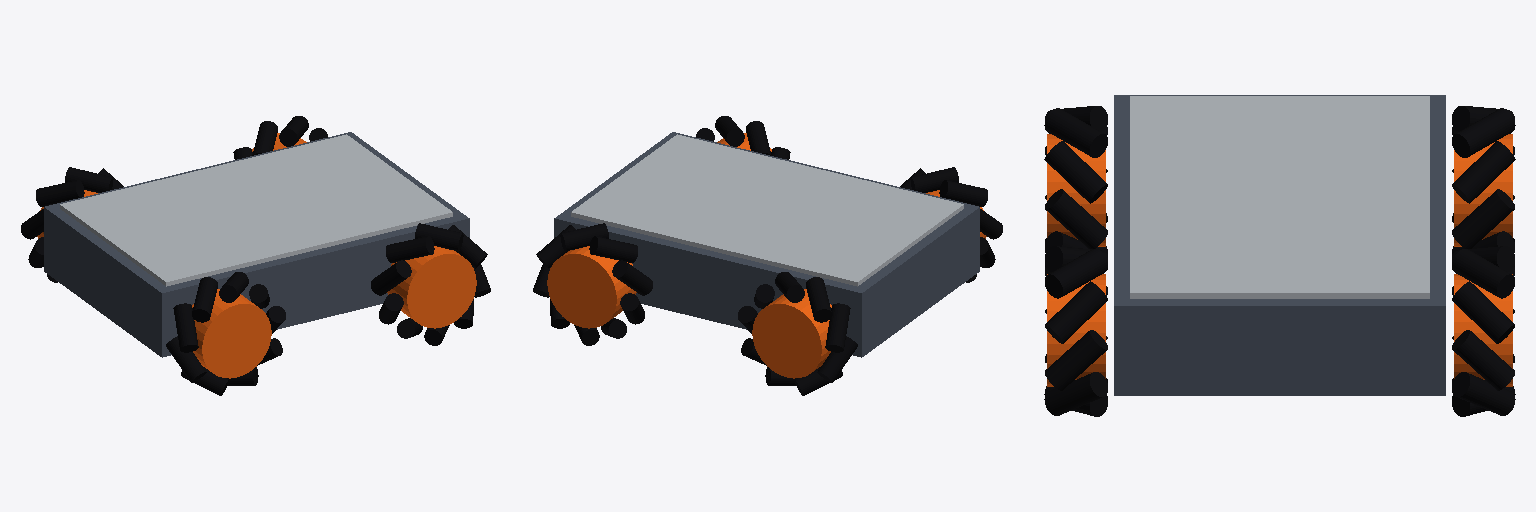
robot.urdf — studio_mecanum:
<?xml version="1.0" ?>
<!-- studio_mecanum: an illustrative four-wheel mecanum base with a 2D LiDAR,
     an IMU and a depth camera, written for Robot Studio's examples. Not
     modelled on any commercial robot; dimensions and masses are plausible
     round numbers, not measurements.

     Arguments (xacro name:=value):
       use_lidar   true | false   mount the LiDAR on the top plate
       use_camera  true | false   mount the depth camera on the front
       wheel_radius               outer radius of the mecanum wheels in metres -->
<robot name="studio_mecanum">
  <material name="chassis_grey">
    <color rgba="0.32 0.35 0.40 1"/>
  </material>
  <material name="plate_silver">
    <color rgba="0.72 0.74 0.76 1"/>
  </material>
  <material name="hub_orange">
    <color rgba="0.92 0.42 0.12 1"/>
  </material>
  <material name="roller_black">
    <color rgba="0.08 0.08 0.09 1"/>
  </material>
  <material name="sensor_dark">
    <color rgba="0.15 0.16 0.18 1"/>
  </material>
  <material name="board_green">
    <color rgba="0.10 0.45 0.25 1"/>
  </material>
  <!-- REP 105: base_footprint on the ground, base_link at the wheel axles. -->
  <link name="base_footprint"/>
  <joint name="base_joint" type="fixed">
    <parent link="base_footprint"/>
    <child link="base_link"/>
    <origin xyz="0 0 0.05"/>
  </joint>
  <link name="base_link">
    <visual name="chassis">
      <origin xyz="0 0 0.009999999999999997"/>
      <geometry>
        <box size="0.3 0.2 0.06"/>
      </geometry>
      <material name="chassis_grey"/>
    </visual>
    <visual name="top_plate">
      <origin xyz="0 0 0.041999999999999996"/>
      <geometry>
        <box size="0.27999999999999997 0.18000000000000002 0.004"/>
      </geometry>
      <material name="plate_silver"/>
    </visual>
    <collision>
      <origin xyz="0 0 0.009999999999999997"/>
      <geometry>
        <box size="0.3 0.2 0.06"/>
      </geometry>
    </collision>
    <inertial>
      <origin xyz="0 0 0.009999999999999997"/>
      <mass value="2.2"/>
      <inertia ixx="0.007993333333333335" ixy="0" ixz="0" iyy="0.01716" iyz="0" izz="0.023833333333333335"/>
    </inertial>
  </link>
  <link name="front_left_wheel_link">
    <visual name="hub">
      <origin rpy="1.5707963267948966 0 0"/>
      <geometry>
        <cylinder length="0.035" radius="0.034"/>
      </geometry>
      <material name="hub_orange"/>
    </visual>
    <visual name="roller_0">
      <origin rpy="0.7853981633974483 -0.0 0" xyz="0.042 0 0.0"/>
      <geometry>
        <cylinder length="0.038397243543875255" radius="0.008"/>
      </geometry>
      <material name="roller_black"/>
    </visual>
    <visual name="roller_1">
      <origin rpy="0.7853981633974483 -0.6981317007977318 0" xyz="0.03217386661099708 0 0.02699707960683465"/>
      <geometry>
        <cylinder length="0.038397243543875255" radius="0.008"/>
      </geometry>
      <material name="roller_black"/>
    </visual>
    <visual name="roller_2">
      <origin rpy="0.7853981633974483 -1.3962634015954636 0" xyz="0.0072932234620110776 0 0.04136192562651274"/>
      <geometry>
        <cylinder length="0.038397243543875255" radius="0.008"/>
      </geometry>
      <material name="roller_black"/>
    </visual>
    <visual name="roller_3">
      <origin rpy="0.7853981633974483 -2.0943951023931953 0" xyz="-0.02099999999999999 0 0.036373066958946425"/>
      <geometry>
        <cylinder length="0.038397243543875255" radius="0.008"/>
      </geometry>
      <material name="roller_black"/>
    </visual>
    <visual name="roller_4">
      <origin rpy="0.7853981633974483 -2.792526803190927 0" xyz="-0.03946709007300815 0 0.014364846019678093"/>
      <geometry>
        <cylinder length="0.038397243543875255" radius="0.008"/>
      </geometry>
      <material name="roller_black"/>
    </visual>
    <visual name="roller_5">
      <origin rpy="0.7853981633974483 -3.490658503988659 0" xyz="-0.03946709007300816 0 -0.014364846019678084"/>
      <geometry>
        <cylinder length="0.038397243543875255" radius="0.008"/>
      </geometry>
      <material name="roller_black"/>
    </visual>
    <visual name="roller_6">
      <origin rpy="0.7853981633974483 -4.1887902047863905 0" xyz="-0.02100000000000002 0 -0.03637306695894641"/>
      <geometry>
        <cylinder length="0.038397243543875255" radius="0.008"/>
      </geometry>
      <material name="roller_black"/>
    </visual>
    <visual name="roller_7">
      <origin rpy="0.7853981633974483 -4.886921905584122 0" xyz="0.007293223462011059 0 -0.041361925626512745"/>
      <geometry>
        <cylinder length="0.038397243543875255" radius="0.008"/>
      </geometry>
      <material name="roller_black"/>
    </visual>
    <visual name="roller_8">
      <origin rpy="0.7853981633974483 -5.585053606381854 0" xyz="0.03217386661099707 0 -0.026997079606834663"/>
      <geometry>
        <cylinder length="0.038397243543875255" radius="0.008"/>
      </geometry>
      <material name="roller_black"/>
    </visual>
    <collision>
      <origin rpy="1.5707963267948966 0 0"/>
      <geometry>
        <cylinder length="0.035" radius="0.05"/>
      </geometry>
    </collision>
    <inertial>
      <origin rpy="1.5707963267948966 0 0"/>
      <mass value="0.15"/>
      <inertia ixx="0.00010906250000000002" ixy="0" ixz="0" iyy="0.00010906250000000002" iyz="0" izz="0.0001875"/>
    </inertial>
  </link>
  <joint name="front_left_wheel_joint" type="continuous">
    <parent link="base_link"/>
    <child link="front_left_wheel_link"/>
    <origin xyz="0.1 0.12250000000000001 0"/>
    <axis xyz="0 1 0"/>
    <dynamics damping="0.01" friction="0.0"/>
  </joint>
  <link name="front_right_wheel_link">
    <visual name="hub">
      <origin rpy="1.5707963267948966 0 0"/>
      <geometry>
        <cylinder length="0.035" radius="0.034"/>
      </geometry>
      <material name="hub_orange"/>
    </visual>
    <visual name="roller_0">
      <origin rpy="-0.7853981633974483 -0.0 0" xyz="0.042 0 0.0"/>
      <geometry>
        <cylinder length="0.038397243543875255" radius="0.008"/>
      </geometry>
      <material name="roller_black"/>
    </visual>
    <visual name="roller_1">
      <origin rpy="-0.7853981633974483 -0.6981317007977318 0" xyz="0.03217386661099708 0 0.02699707960683465"/>
      <geometry>
        <cylinder length="0.038397243543875255" radius="0.008"/>
      </geometry>
      <material name="roller_black"/>
    </visual>
    <visual name="roller_2">
      <origin rpy="-0.7853981633974483 -1.3962634015954636 0" xyz="0.0072932234620110776 0 0.04136192562651274"/>
      <geometry>
        <cylinder length="0.038397243543875255" radius="0.008"/>
      </geometry>
      <material name="roller_black"/>
    </visual>
    <visual name="roller_3">
      <origin rpy="-0.7853981633974483 -2.0943951023931953 0" xyz="-0.02099999999999999 0 0.036373066958946425"/>
      <geometry>
        <cylinder length="0.038397243543875255" radius="0.008"/>
      </geometry>
      <material name="roller_black"/>
    </visual>
    <visual name="roller_4">
      <origin rpy="-0.7853981633974483 -2.792526803190927 0" xyz="-0.03946709007300815 0 0.014364846019678093"/>
      <geometry>
        <cylinder length="0.038397243543875255" radius="0.008"/>
      </geometry>
      <material name="roller_black"/>
    </visual>
    <visual name="roller_5">
      <origin rpy="-0.7853981633974483 -3.490658503988659 0" xyz="-0.03946709007300816 0 -0.014364846019678084"/>
      <geometry>
        <cylinder length="0.038397243543875255" radius="0.008"/>
      </geometry>
      <material name="roller_black"/>
    </visual>
    <visual name="roller_6">
      <origin rpy="-0.7853981633974483 -4.1887902047863905 0" xyz="-0.02100000000000002 0 -0.03637306695894641"/>
      <geometry>
        <cylinder length="0.038397243543875255" radius="0.008"/>
      </geometry>
      <material name="roller_black"/>
    </visual>
    <visual name="roller_7">
      <origin rpy="-0.7853981633974483 -4.886921905584122 0" xyz="0.007293223462011059 0 -0.041361925626512745"/>
      <geometry>
        <cylinder length="0.038397243543875255" radius="0.008"/>
      </geometry>
      <material name="roller_black"/>
    </visual>
    <visual name="roller_8">
      <origin rpy="-0.7853981633974483 -5.585053606381854 0" xyz="0.03217386661099707 0 -0.026997079606834663"/>
      <geometry>
        <cylinder length="0.038397243543875255" radius="0.008"/>
      </geometry>
      <material name="roller_black"/>
    </visual>
    <collision>
      <origin rpy="1.5707963267948966 0 0"/>
      <geometry>
        <cylinder length="0.035" radius="0.05"/>
      </geometry>
    </collision>
    <inertial>
      <origin rpy="1.5707963267948966 0 0"/>
      <mass value="0.15"/>
      <inertia ixx="0.00010906250000000002" ixy="0" ixz="0" iyy="0.00010906250000000002" iyz="0" izz="0.0001875"/>
    </inertial>
  </link>
  <joint name="front_right_wheel_joint" type="continuous">
    <parent link="base_link"/>
    <child link="front_right_wheel_link"/>
    <origin xyz="0.1 -0.12250000000000001 0"/>
    <axis xyz="0 1 0"/>
    <dynamics damping="0.01" friction="0.0"/>
  </joint>
  <link name="rear_left_wheel_link">
    <visual name="hub">
      <origin rpy="1.5707963267948966 0 0"/>
      <geometry>
        <cylinder length="0.035" radius="0.034"/>
      </geometry>
      <material name="hub_orange"/>
    </visual>
    <visual name="roller_0">
      <origin rpy="-0.7853981633974483 -0.0 0" xyz="0.042 0 0.0"/>
      <geometry>
        <cylinder length="0.038397243543875255" radius="0.008"/>
      </geometry>
      <material name="roller_black"/>
    </visual>
    <visual name="roller_1">
      <origin rpy="-0.7853981633974483 -0.6981317007977318 0" xyz="0.03217386661099708 0 0.02699707960683465"/>
      <geometry>
        <cylinder length="0.038397243543875255" radius="0.008"/>
      </geometry>
      <material name="roller_black"/>
    </visual>
    <visual name="roller_2">
      <origin rpy="-0.7853981633974483 -1.3962634015954636 0" xyz="0.0072932234620110776 0 0.04136192562651274"/>
      <geometry>
        <cylinder length="0.038397243543875255" radius="0.008"/>
      </geometry>
      <material name="roller_black"/>
    </visual>
    <visual name="roller_3">
      <origin rpy="-0.7853981633974483 -2.0943951023931953 0" xyz="-0.02099999999999999 0 0.036373066958946425"/>
      <geometry>
        <cylinder length="0.038397243543875255" radius="0.008"/>
      </geometry>
      <material name="roller_black"/>
    </visual>
    <visual name="roller_4">
      <origin rpy="-0.7853981633974483 -2.792526803190927 0" xyz="-0.03946709007300815 0 0.014364846019678093"/>
      <geometry>
        <cylinder length="0.038397243543875255" radius="0.008"/>
      </geometry>
      <material name="roller_black"/>
    </visual>
    <visual name="roller_5">
      <origin rpy="-0.7853981633974483 -3.490658503988659 0" xyz="-0.03946709007300816 0 -0.014364846019678084"/>
      <geometry>
        <cylinder length="0.038397243543875255" radius="0.008"/>
      </geometry>
      <material name="roller_black"/>
    </visual>
    <visual name="roller_6">
      <origin rpy="-0.7853981633974483 -4.1887902047863905 0" xyz="-0.02100000000000002 0 -0.03637306695894641"/>
      <geometry>
        <cylinder length="0.038397243543875255" radius="0.008"/>
      </geometry>
      <material name="roller_black"/>
    </visual>
    <visual name="roller_7">
      <origin rpy="-0.7853981633974483 -4.886921905584122 0" xyz="0.007293223462011059 0 -0.041361925626512745"/>
      <geometry>
        <cylinder length="0.038397243543875255" radius="0.008"/>
      </geometry>
      <material name="roller_black"/>
    </visual>
    <visual name="roller_8">
      <origin rpy="-0.7853981633974483 -5.585053606381854 0" xyz="0.03217386661099707 0 -0.026997079606834663"/>
      <geometry>
        <cylinder length="0.038397243543875255" radius="0.008"/>
      </geometry>
      <material name="roller_black"/>
    </visual>
    <collision>
      <origin rpy="1.5707963267948966 0 0"/>
      <geometry>
        <cylinder length="0.035" radius="0.05"/>
      </geometry>
    </collision>
    <inertial>
      <origin rpy="1.5707963267948966 0 0"/>
      <mass value="0.15"/>
      <inertia ixx="0.00010906250000000002" ixy="0" ixz="0" iyy="0.00010906250000000002" iyz="0" izz="0.0001875"/>
    </inertial>
  </link>
  <joint name="rear_left_wheel_joint" type="continuous">
    <parent link="base_link"/>
    <child link="rear_left_wheel_link"/>
    <origin xyz="-0.1 0.12250000000000001 0"/>
    <axis xyz="0 1 0"/>
    <dynamics damping="0.01" friction="0.0"/>
  </joint>
  <link name="rear_right_wheel_link">
    <visual name="hub">
      <origin rpy="1.5707963267948966 0 0"/>
      <geometry>
        <cylinder length="0.035" radius="0.034"/>
      </geometry>
      <material name="hub_orange"/>
    </visual>
    <visual name="roller_0">
      <origin rpy="0.7853981633974483 -0.0 0" xyz="0.042 0 0.0"/>
      <geometry>
        <cylinder length="0.038397243543875255" radius="0.008"/>
      </geometry>
      <material name="roller_black"/>
    </visual>
    <visual name="roller_1">
      <origin rpy="0.7853981633974483 -0.6981317007977318 0" xyz="0.03217386661099708 0 0.02699707960683465"/>
      <geometry>
        <cylinder length="0.038397243543875255" radius="0.008"/>
      </geometry>
      <material name="roller_black"/>
    </visual>
    <visual name="roller_2">
      <origin rpy="0.7853981633974483 -1.3962634015954636 0" xyz="0.0072932234620110776 0 0.04136192562651274"/>
      <geometry>
        <cylinder length="0.038397243543875255" radius="0.008"/>
      </geometry>
      <material name="roller_black"/>
    </visual>
    <visual name="roller_3">
      <origin rpy="0.7853981633974483 -2.0943951023931953 0" xyz="-0.02099999999999999 0 0.036373066958946425"/>
      <geometry>
        <cylinder length="0.038397243543875255" radius="0.008"/>
      </geometry>
      <material name="roller_black"/>
    </visual>
    <visual name="roller_4">
      <origin rpy="0.7853981633974483 -2.792526803190927 0" xyz="-0.03946709007300815 0 0.014364846019678093"/>
      <geometry>
        <cylinder length="0.038397243543875255" radius="0.008"/>
      </geometry>
      <material name="roller_black"/>
    </visual>
    <visual name="roller_5">
      <origin rpy="0.7853981633974483 -3.490658503988659 0" xyz="-0.03946709007300816 0 -0.014364846019678084"/>
      <geometry>
        <cylinder length="0.038397243543875255" radius="0.008"/>
      </geometry>
      <material name="roller_black"/>
    </visual>
    <visual name="roller_6">
      <origin rpy="0.7853981633974483 -4.1887902047863905 0" xyz="-0.02100000000000002 0 -0.03637306695894641"/>
      <geometry>
        <cylinder length="0.038397243543875255" radius="0.008"/>
      </geometry>
      <material name="roller_black"/>
    </visual>
    <visual name="roller_7">
      <origin rpy="0.7853981633974483 -4.886921905584122 0" xyz="0.007293223462011059 0 -0.041361925626512745"/>
      <geometry>
        <cylinder length="0.038397243543875255" radius="0.008"/>
      </geometry>
      <material name="roller_black"/>
    </visual>
    <visual name="roller_8">
      <origin rpy="0.7853981633974483 -5.585053606381854 0" xyz="0.03217386661099707 0 -0.026997079606834663"/>
      <geometry>
        <cylinder length="0.038397243543875255" radius="0.008"/>
      </geometry>
      <material name="roller_black"/>
    </visual>
    <collision>
      <origin rpy="1.5707963267948966 0 0"/>
      <geometry>
        <cylinder length="0.035" radius="0.05"/>
      </geometry>
    </collision>
    <inertial>
      <origin rpy="1.5707963267948966 0 0"/>
      <mass value="0.15"/>
      <inertia ixx="0.00010906250000000002" ixy="0" ixz="0" iyy="0.00010906250000000002" iyz="0" izz="0.0001875"/>
    </inertial>
  </link>
  <joint name="rear_right_wheel_joint" type="continuous">
    <parent link="base_link"/>
    <child link="rear_right_wheel_link"/>
    <origin xyz="-0.1 -0.12250000000000001 0"/>
    <axis xyz="0 1 0"/>
    <dynamics damping="0.01" friction="0.0"/>
  </joint>
  <joint name="imu_joint" type="fixed">
    <parent link="base_link"/>
    <child link="imu_link"/>
    <origin xyz="0 0 0.03799999999999999"/>
  </joint>
  <link name="imu_link">
    <visual>
      <geometry>
        <box size="0.02 0.02 0.004"/>
      </geometry>
      <material name="board_green"/>
    </visual>
    <collision>
      <geometry>
        <box size="0.02 0.02 0.004"/>
      </geometry>
    </collision>
    <inertial>
      <origin xyz="0 0 0"/>
      <mass value="0.004"/>
      <inertia ixx="1.3866666666666666e-07" ixy="0" ixz="0" iyy="1.3866666666666666e-07" iyz="0" izz="2.6666666666666667e-07"/>
    </inertial>
  </link>
</robot>

--- Render facts (derived) ---
3 views of the same robot in one strip: view 1: azimuth 30°, elevation 25°; view 2: azimuth 150°, elevation 25°; view 3: azimuth 270°, elevation 25° (orthographic).
Model studio_mecanum with 7 links and 6 joints (4 continuous, 2 fixed), rooted at base_footprint, posed all joints at 0.
Visible links, largest first — view 1: base_link, rear_right_wheel_link, front_right_wheel_link, rear_left_wheel_link, front_left_wheel_link; view 2: base_link, rear_left_wheel_link, front_left_wheel_link, rear_right_wheel_link, front_right_wheel_link; view 3: base_link, front_left_wheel_link, front_right_wheel_link, rear_left_wheel_link, rear_right_wheel_link.
Boxes of the visible links, box(x1,y1,x2,y2) form: base_link: box(44, 132, 469, 357); rear_right_wheel_link: box(166, 272, 285, 395); front_right_wheel_link: box(371, 223, 490, 345); rear_left_wheel_link: box(21, 167, 123, 282); front_left_wheel_link: box(233, 116, 327, 159); base_link: box(554, 132, 979, 357); rear_left_wheel_link: box(738, 272, 857, 395); front_left_wheel_link: box(533, 223, 652, 345); rear_right_wheel_link: box(900, 167, 1002, 282); front_right_wheel_link: box(696, 116, 790, 159); base_link: box(1114, 95, 1445, 395); front_left_wheel_link: box(1452, 246, 1515, 416); front_right_wheel_link: box(1044, 246, 1107, 416); rear_left_wheel_link: box(1452, 106, 1515, 266); rear_right_wheel_link: box(1044, 106, 1107, 266).
Size in the robot's own frame: 0.3019 by 0.2835 by 0.1033 metres.
Geometry: primitives only (box / cylinder / sphere), no mesh files.
